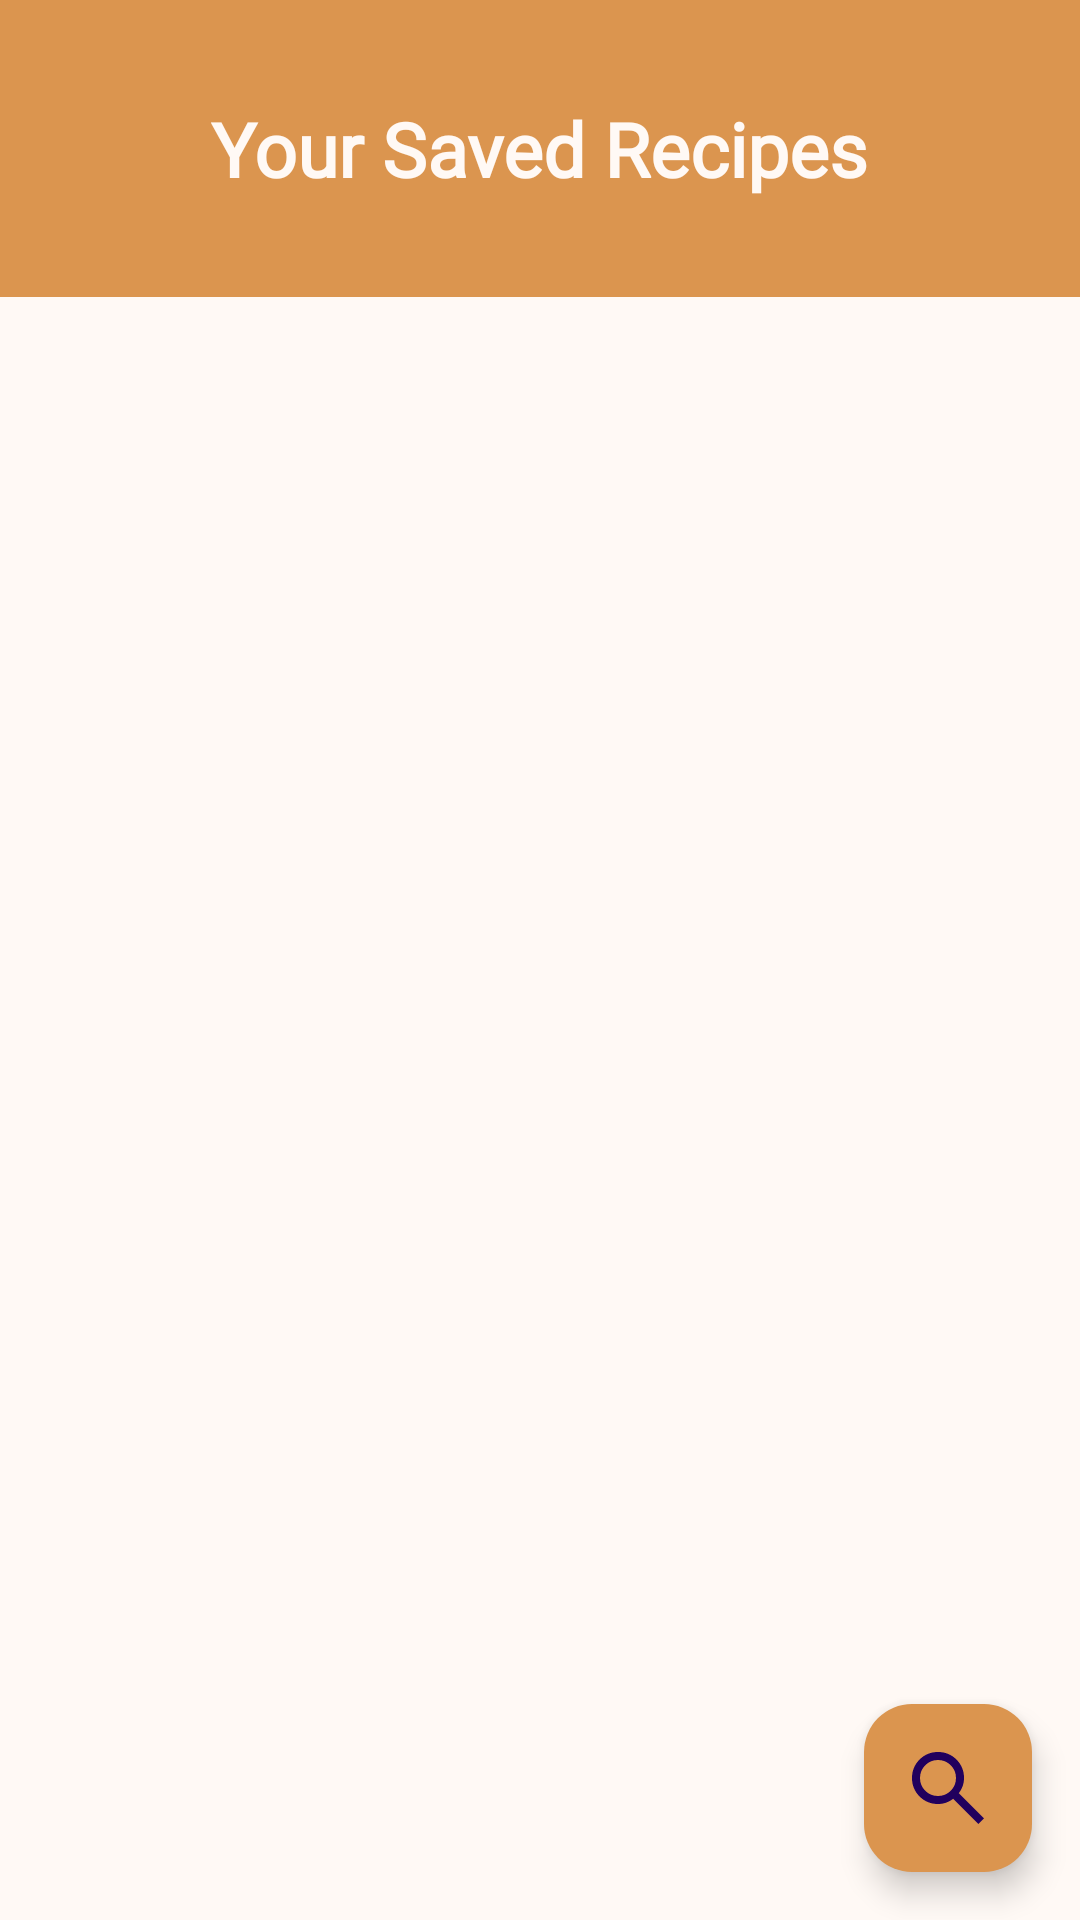

Named icons in this screenshot (1080px×1920px) and their centers, [x,y]:
search: [948,1788]
